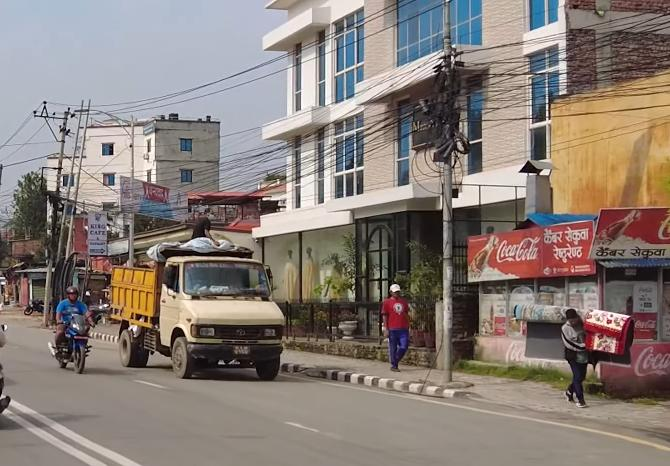bike: (52, 283, 89, 382)
mini_truck: (101, 233, 290, 390)
